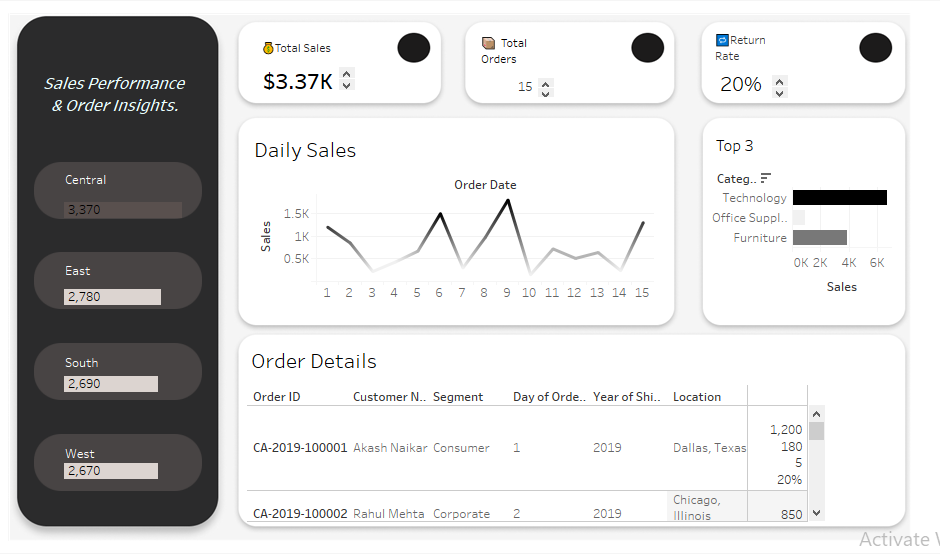

This screenshot's page, from the dashboard's own definition file:
{"tool":"tableau","page":{"name":"Sales Performance & Order Insights","canvas":[955,552],"ordinal":0},"visuals":[{"type":"image","param":"Image/project.png","box":[8,8,939,536]},{"type":"worksheet","title":"Return Rate ","mark":"Automatic","box":[715,27,141,70]},{"type":"worksheet","title":"Total orders","mark":"Automatic","box":[481,30,134,66]},{"type":"worksheet","title":"Total sales","mark":"Automatic","box":[262,35,130,54]},{"type":"title","box":[37,54,163,77]},{"type":"worksheet","title":"Daily Sales","mark":"Automatic","rows":["Sales"],"cols":["Order Date"],"box":[254,130,404,171]},{"type":"worksheet","title":"Top 3","mark":"Automatic","rows":["Category"],"cols":["Sales"],"box":[716,130,180,184]},{"type":"worksheet","title":"regins","mark":"Shape","rows":["Region"],"box":[35,142,173,365]},{"type":"worksheet","title":"-","mark":"Bar","rows":["Region"],"cols":["Sales"],"box":[68,166,124,347]},{"type":"worksheet","title":"Order Details","mark":"Automatic","rows":["Order ID","Customer Name","Segment","Order Date","Ship Date","Location"],"box":[251,341,591,180]}]}

Visuals, with their boxes in screenshot pixels (x1, y1, x2, y2), scaled from the page's 955x552 canvas onto the 940x554 screenshot:
image: bbox=(8, 8, 932, 546)
"Return Rate " worksheet: bbox=(704, 27, 843, 97)
"Total orders" worksheet: bbox=(473, 30, 605, 96)
"Total sales" worksheet: bbox=(258, 35, 386, 89)
title: bbox=(36, 54, 197, 131)
"Daily Sales" worksheet: bbox=(250, 130, 648, 302)
"Top 3" worksheet: bbox=(705, 130, 882, 315)
"regins" worksheet (Shape marks): bbox=(34, 143, 205, 509)
"-" worksheet (Bar marks): bbox=(67, 167, 189, 515)
"Order Details" worksheet: bbox=(247, 342, 829, 523)
